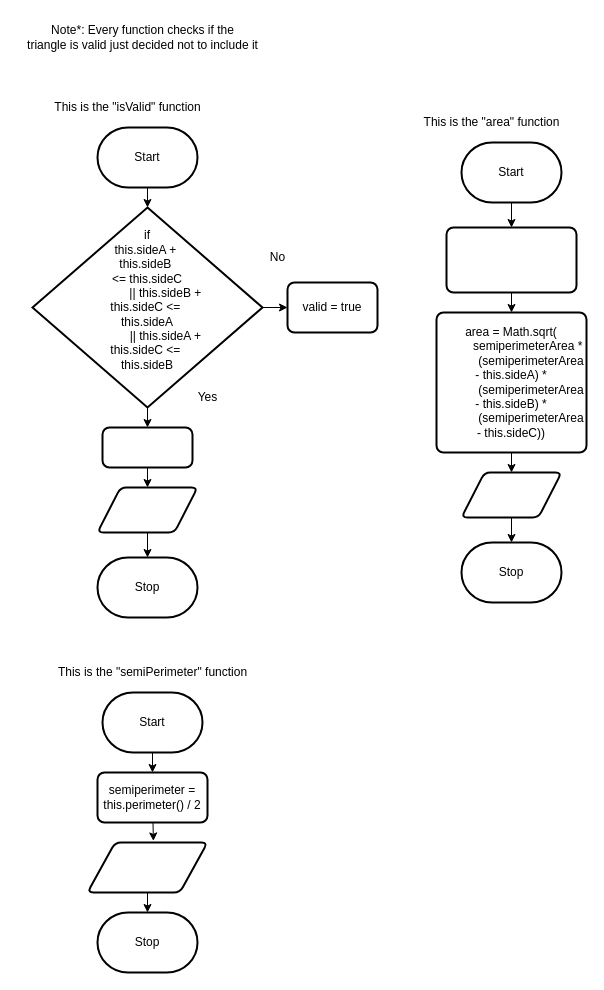
The diagram is 604 pixels wide and 990 high, and some of its shapes have lost their labels. Each missing label, with the centre of its shape:
"return area" belongs at [511,494].
"return semiperimeter" belongs at [147,867].
"return valid" belongs at [147,509].
"semiperimeterArea = this.semiPerimeter()" belongs at [511,259].
"valid = false" belongs at [147,447].
